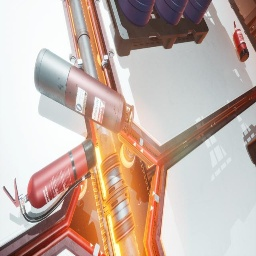FireExtinguisher ]: (3, 138, 97, 223), (233, 21, 249, 62)
NitrogenTank ,: (34, 48, 134, 137)
